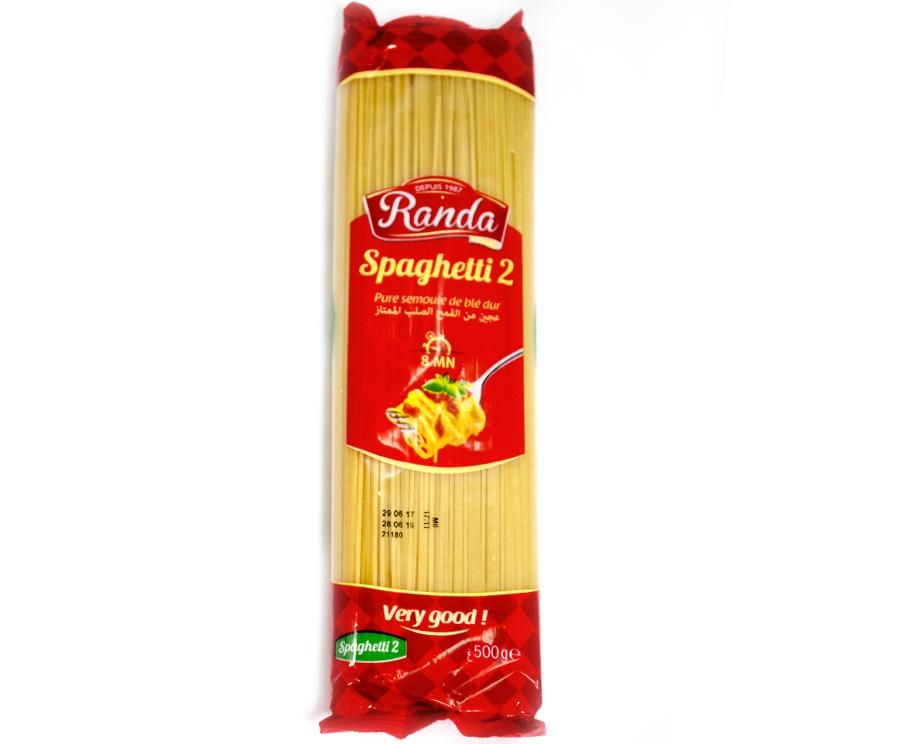Ressort: (318, 27, 544, 738)
